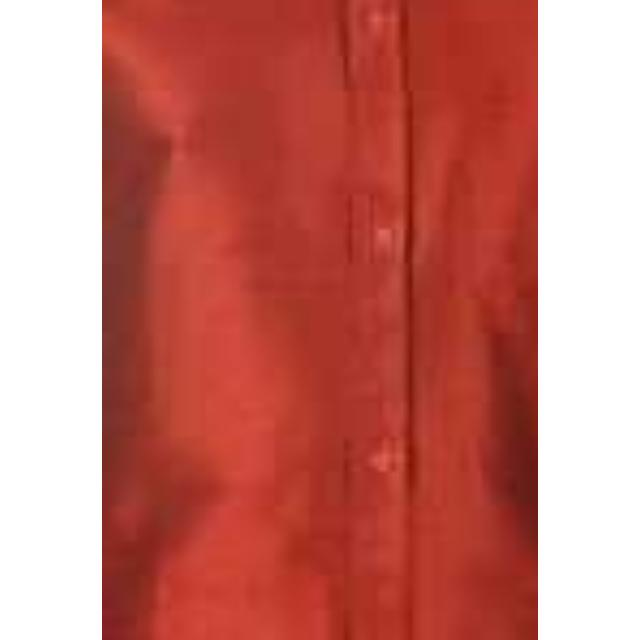silk: (102, 0, 538, 640)
